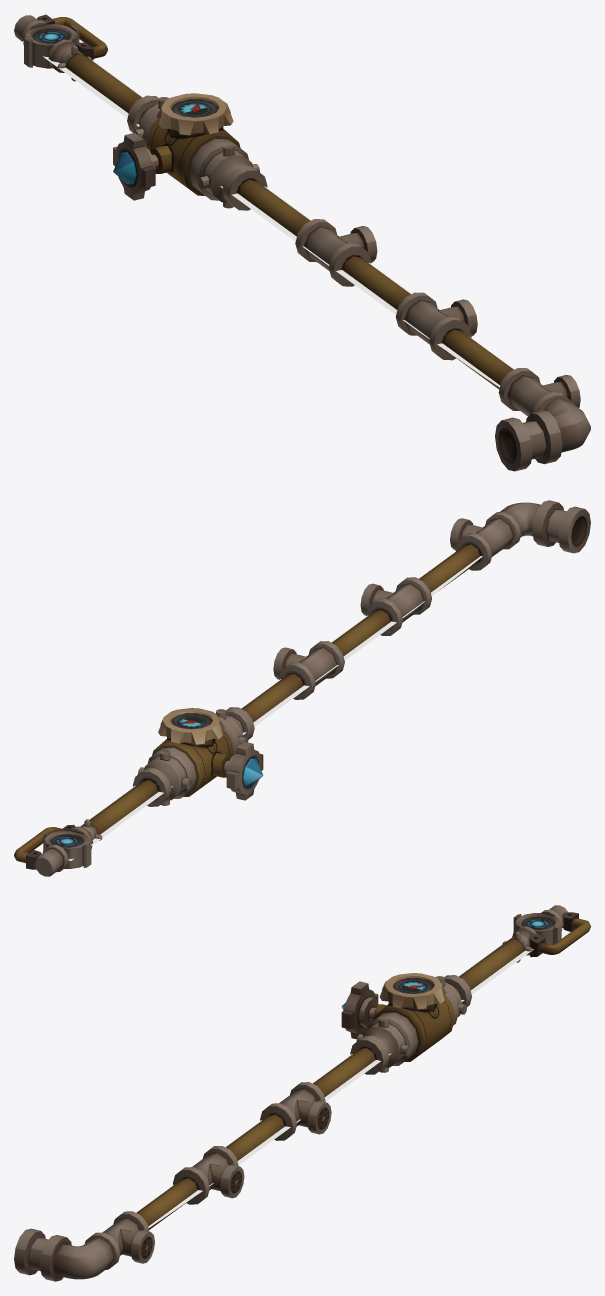
Rendered from Equip_Sword_Machination.fbx.
The picture shows the model from 3 angles, top to bottom: view 1: azimuth 30°, elevation 25°; view 2: azimuth 150°, elevation 25°; view 3: azimuth 330°, elevation 25°; orthographic projection. The views are drawn at different scales.
Visible parts, largest first — view 1: Equip_Sword_Machination_Model, Equip_Sword_EffectMesh; view 2: Equip_Sword_Machination_Model, Equip_Sword_EffectMesh; view 3: Equip_Sword_Machination_Model, Equip_Sword_EffectMesh.
Part boxes in pixels (box(x1,y1,x2,y2)): Equip_Sword_Machination_Model: box(14, 14, 590, 471); Equip_Sword_EffectMesh: box(23, 41, 500, 387); Equip_Sword_Machination_Model: box(14, 500, 590, 876); Equip_Sword_EffectMesh: box(68, 556, 482, 860); Equip_Sword_Machination_Model: box(14, 905, 590, 1281); Equip_Sword_EffectMesh: box(148, 928, 562, 1227).
Bounding box in the file's own units: 0.1291 × 0.0758 × 1.02.
2 materials, 1 textured.
